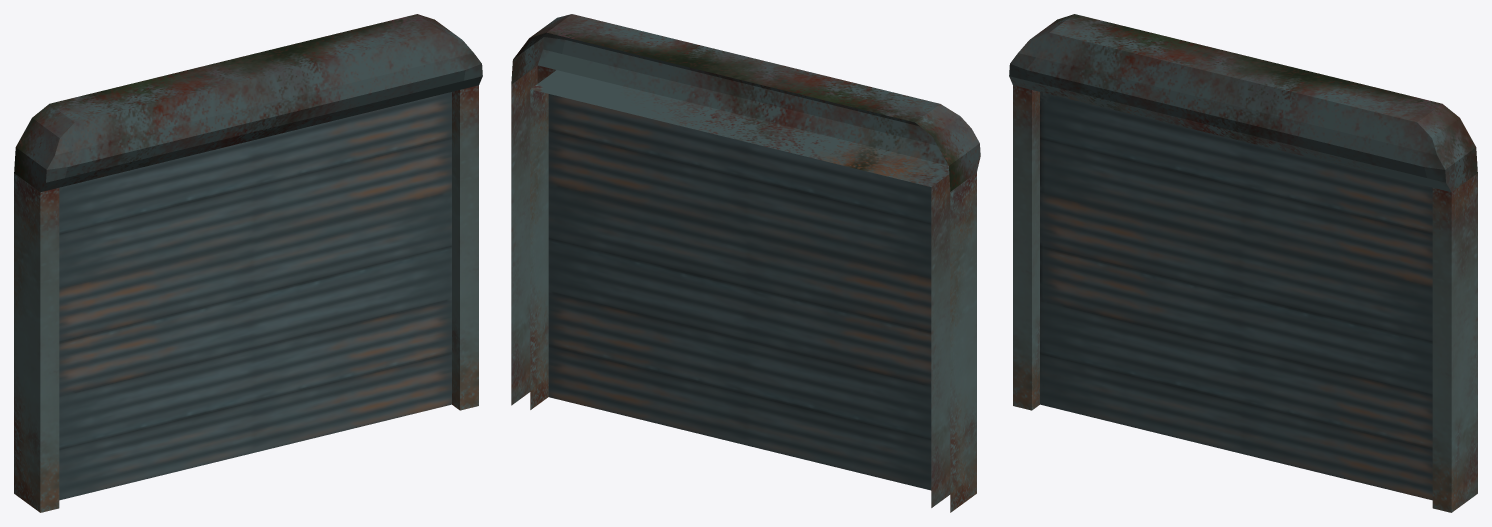
Rendered from PortaFechadaLoja.fbx.
The picture shows the model from 3 angles, left to right: view 1: azimuth 30°, elevation 25°; view 2: azimuth 150°, elevation 25°; view 3: azimuth 330°, elevation 25°; orthographic projection.
Parts seen in each view (by area): view 1: PortaFechadaLoja; view 2: PortaFechadaLoja; view 3: PortaFechadaLoja.
Boxes of the visible parts, box(x1,y1,x2,y2) form: PortaFechadaLoja: box(14, 14, 482, 512); PortaFechadaLoja: box(511, 14, 980, 512); PortaFechadaLoja: box(1009, 14, 1477, 512).
Bounding box in the file's own units: 817 × 679 × 108.
